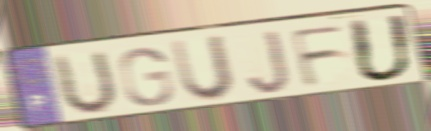F: (287, 22, 349, 91)
G: (116, 45, 176, 108)
J: (245, 28, 293, 96)
U: (167, 32, 238, 105), (346, 12, 417, 84), (52, 47, 120, 118)
